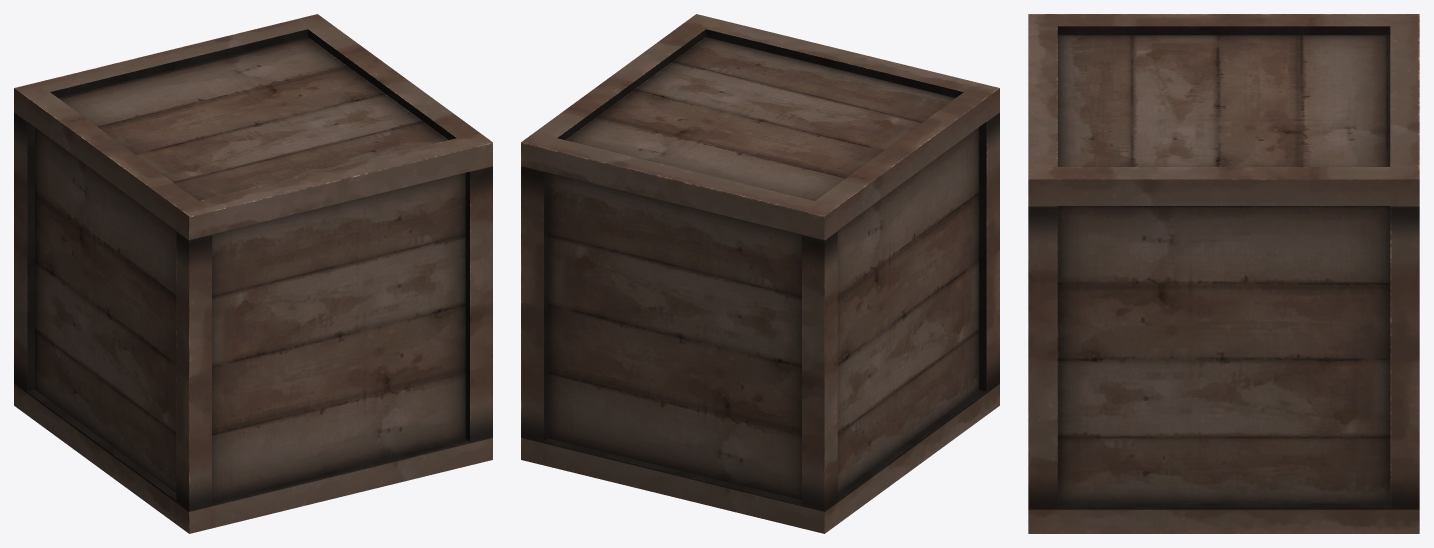
3 renders of one model, left to right at view 1: azimuth 30°, elevation 25°; view 2: azimuth 150°, elevation 25°; view 3: azimuth 270°, elevation 25°, orthographic. The views are drawn at different scales.
Parts seen in each view (by area): view 1: Box; view 2: Box; view 3: Box.
Part boxes in pixels (<box>): Box: <box>14,14,492,533</box>; Box: <box>521,14,999,533</box>; Box: <box>1028,14,1419,533</box>.
Bounding box in the file's own units: 63.65 × 63.65 × 63.65.
